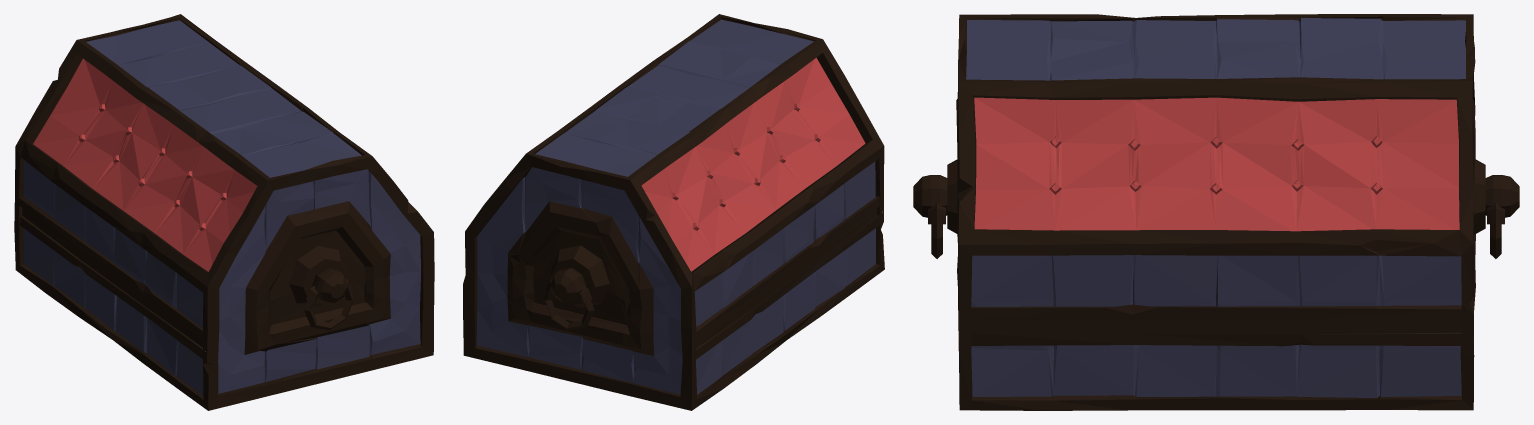
The model's file is SFFA_Weapon_Stand_002.fbx.
3 renders of one model, left to right at view 1: azimuth 30°, elevation 25°; view 2: azimuth 150°, elevation 25°; view 3: azimuth 270°, elevation 25°, orthographic. The views are drawn at different scales.
Visible parts, largest first — view 1: SFFA_Weapon_Stand_002; view 2: SFFA_Weapon_Stand_002; view 3: SFFA_Weapon_Stand_002.
Boxes of the visible parts, x1,y1,x2,y2 form: SFFA_Weapon_Stand_002: (14,14,434,410); SFFA_Weapon_Stand_002: (463,14,884,410); SFFA_Weapon_Stand_002: (913,14,1519,410).
Size of the model in its own units: 138 by 124 by 236.
